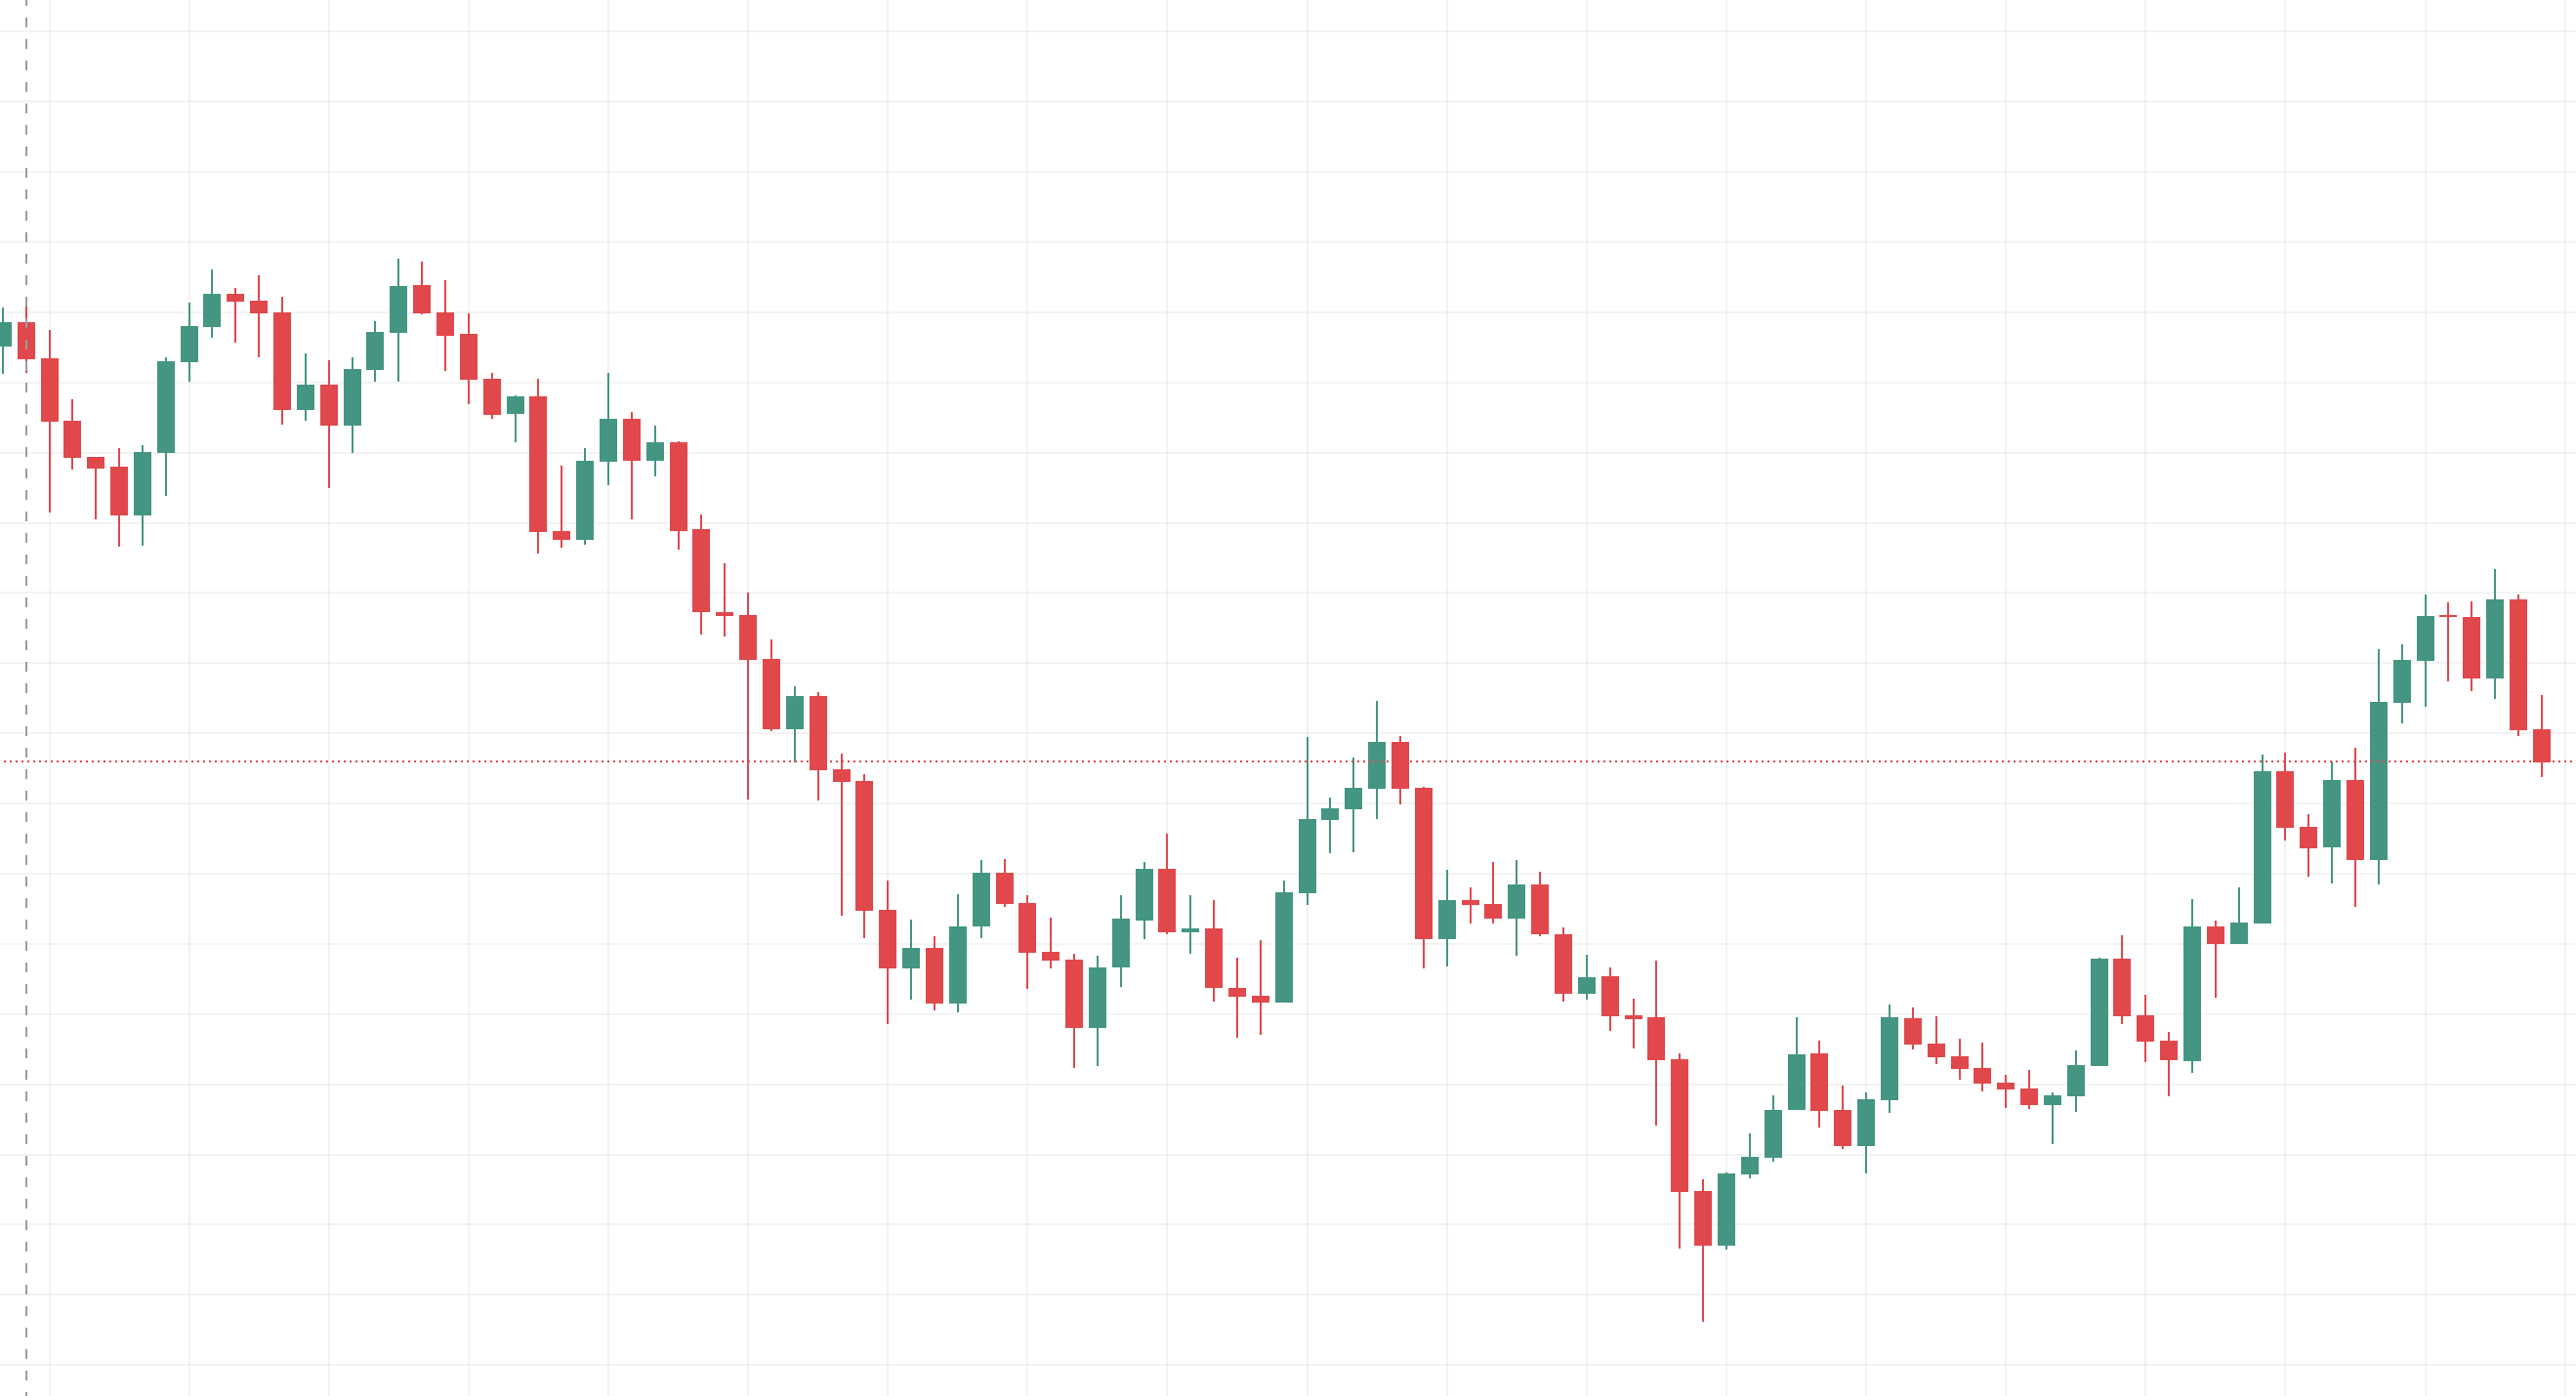V-turn: (741, 545, 992, 1030)
